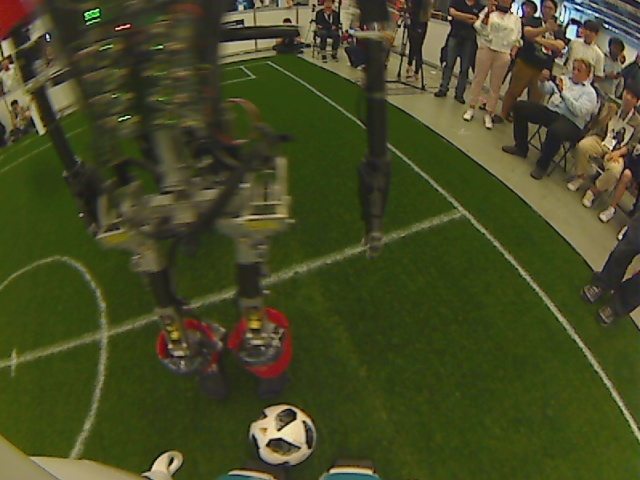ball: (246, 403, 318, 468)
